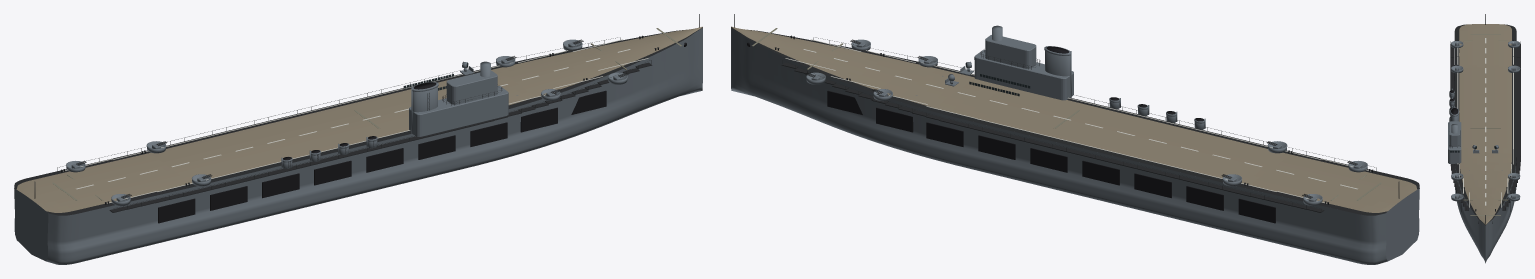
The model's file is independence.glb.
3 views of the same model, side by side, from view 1: azimuth 30°, elevation 25°; view 2: azimuth 150°, elevation 25°; view 3: azimuth 270°, elevation 25° (orthographic). The views are drawn at different scales.
Parts seen in each view (by area): view 1: independence; view 2: independence; view 3: independence.
Part boxes in pixels (x1,y1,x2,y2): independence: (14, 14, 702, 264); independence: (731, 14, 1419, 264); independence: (1448, 14, 1520, 263).
Bounding box in the file's own units: 190 × 28 × 28.3.
